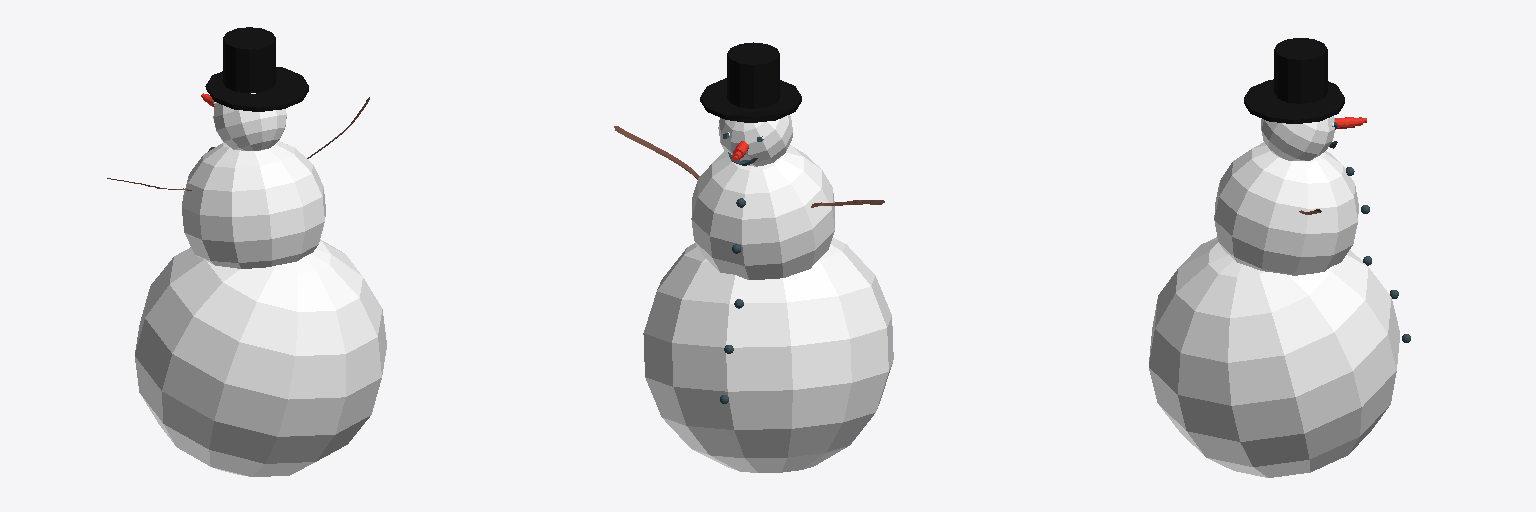
File: snowman.obj
3 views of the same model, side by side, from view 1: azimuth 30°, elevation 25°; view 2: azimuth 150°, elevation 25°; view 3: azimuth 270°, elevation 25° (orthographic).
Visible parts, largest first — view 1: group[number redacted], group[number redacted], group[number redacted], group[number redacted], group[number redacted]; view 2: group[number redacted], group[number redacted], group[number redacted], group[number redacted], group[number redacted]; view 3: group[number redacted], group[number redacted], group[number redacted], group[number redacted], group[number redacted].
Boxes of the visible parts, box(x1,y1,x2,y2) form: group[number redacted]: box(135, 239, 386, 476); group[number redacted]: box(182, 141, 325, 268); group[number redacted]: box(223, 27, 275, 93); group[number redacted]: box(213, 93, 286, 150); group[number redacted]: box(205, 67, 308, 111); group[number redacted]: box(643, 238, 893, 472); group[number redacted]: box(691, 145, 834, 279); group[number redacted]: box(727, 42, 779, 108); group[number redacted]: box(718, 115, 792, 166); group[number redacted]: box(700, 78, 801, 122); group[number redacted]: box(1149, 237, 1399, 477); group[number redacted]: box(1214, 142, 1358, 275); group[number redacted]: box(1274, 38, 1327, 103); group[number redacted]: box(1244, 79, 1344, 123); group[number redacted]: box(1261, 116, 1334, 160).
Size of the model in its own units: 1.91 by 2.85 by 1.62.